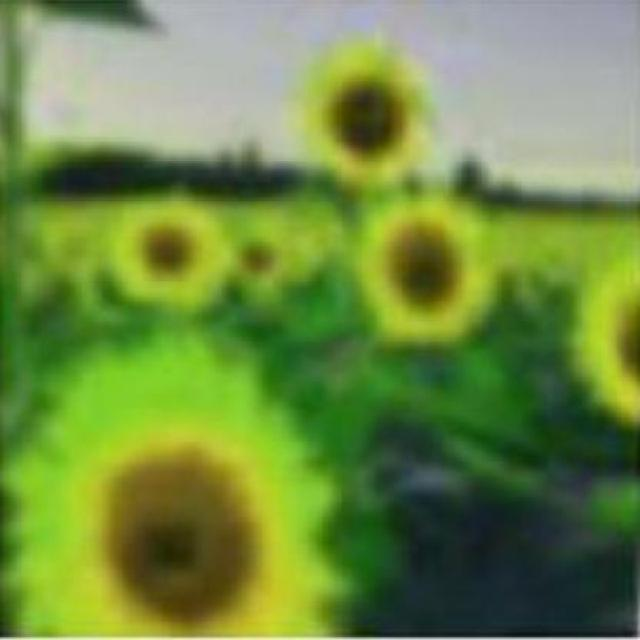sunflower: (10, 344, 343, 640), (291, 31, 442, 192), (356, 195, 500, 348), (113, 190, 238, 315)
